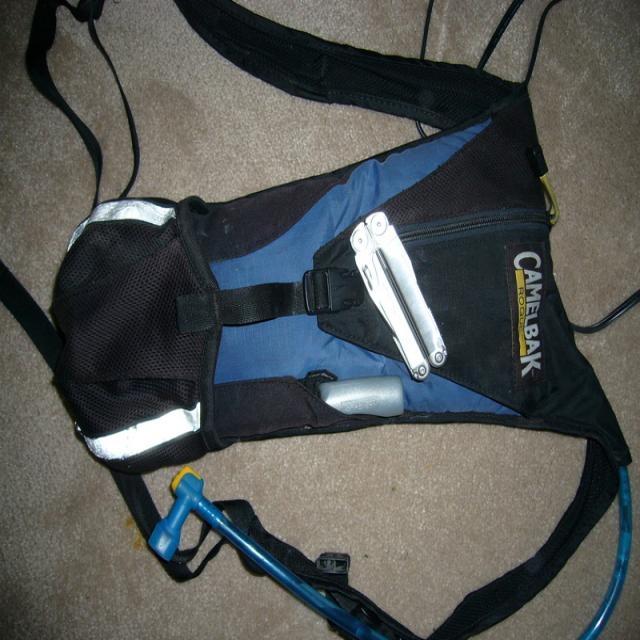bag: (452, 298, 491, 330)
